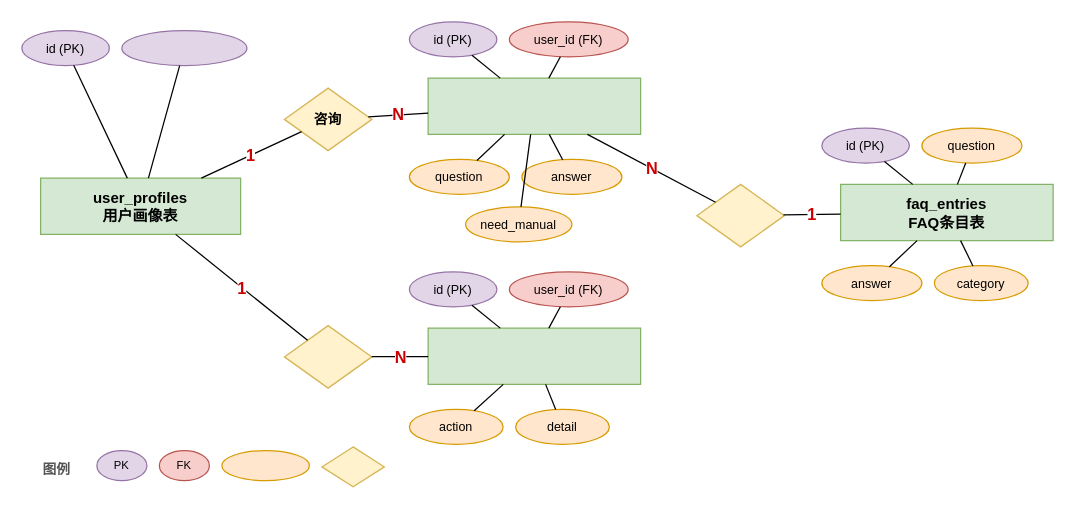
The diagram is 1075 pixels wide and 509 high, and some of its shapes have lost their labels. Here are the shapes that lost their labels. From the top down, the centre of each, then its label:
At (x=184, y=47): "username (UQ)".
At (x=534, y=105): "support_sessions 客服会话表".
At (x=740, y=215): "匹配".
At (x=327, y=356): "记录".
At (x=534, y=355): "security_logs 安全日志表".
At (x=265, y=465): "普通属性".
At (x=352, y=466): "关系".
